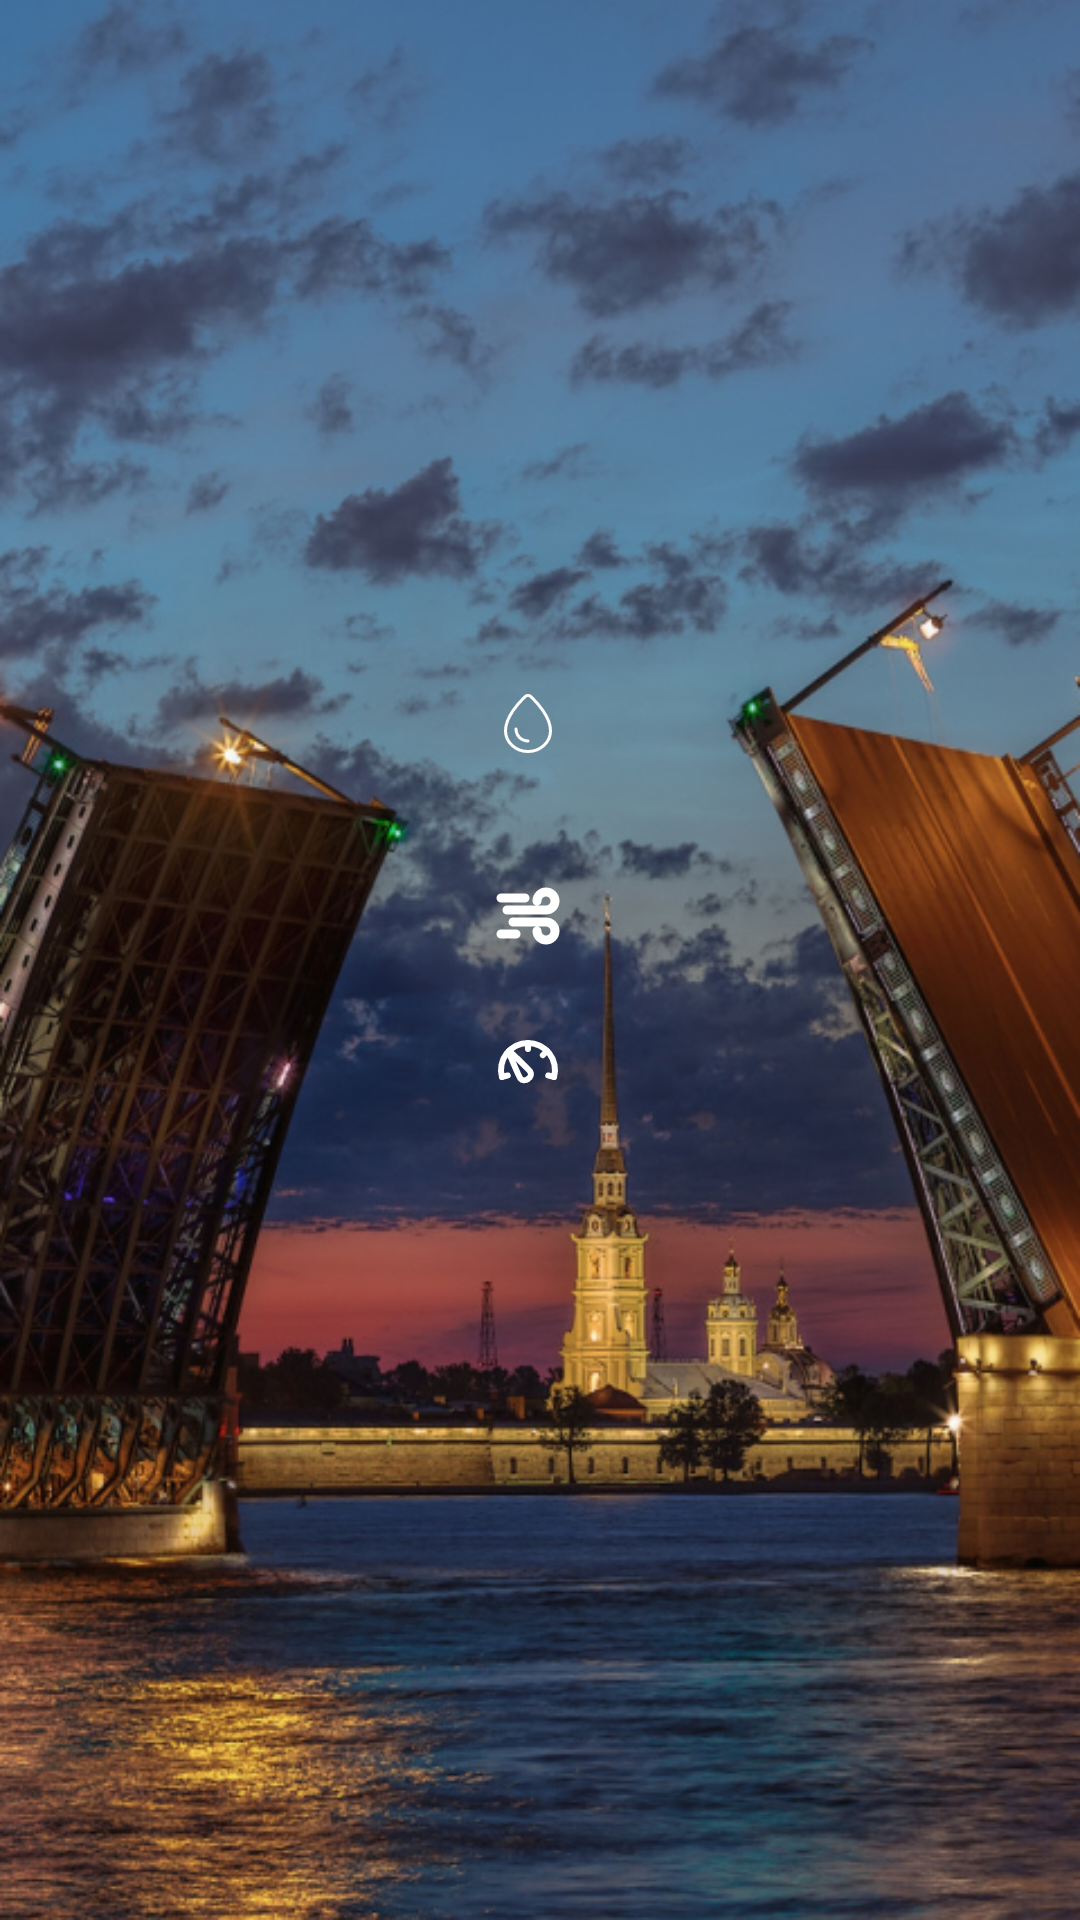

Icon click points for this 1080px×1920px phone screenshot, format (x=x, y=y):
humidity: (x=528, y=723)
pressure: (x=528, y=1060)
wind: (x=528, y=915)
